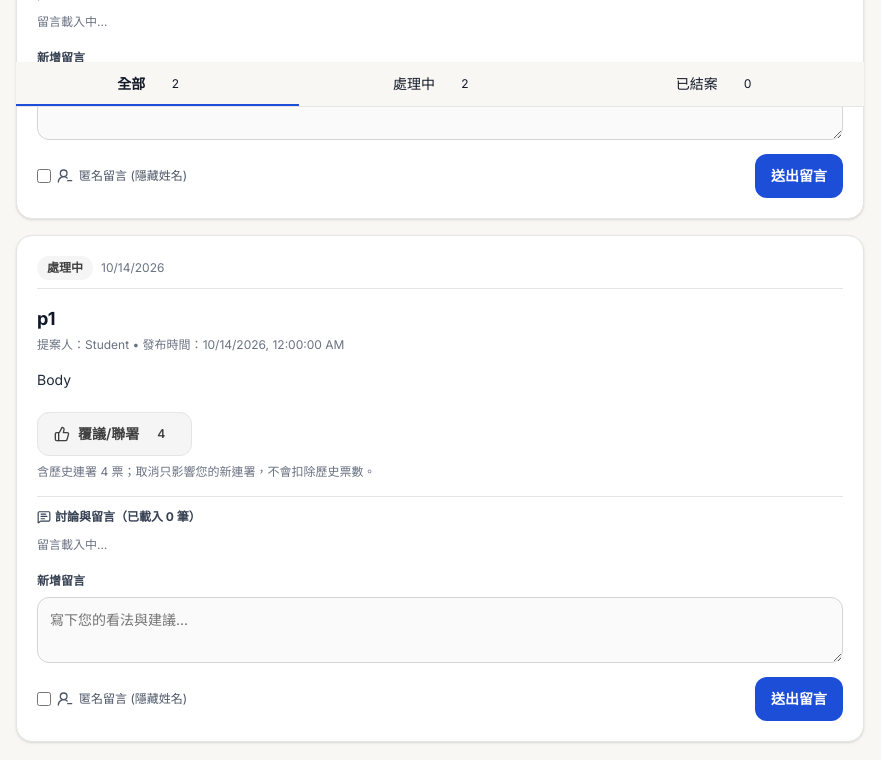
uses the receipt ballot without ever writing local vote authority (cancel=false)
This screenshot has width=881, height=760.
(page scrolled)
Expected: the heading "p1" is shown, 37,308 -> 56,329
Click the button "覆議/聯署 4" at (115, 434), box 37,412 -> 192,456
(page scrolled)
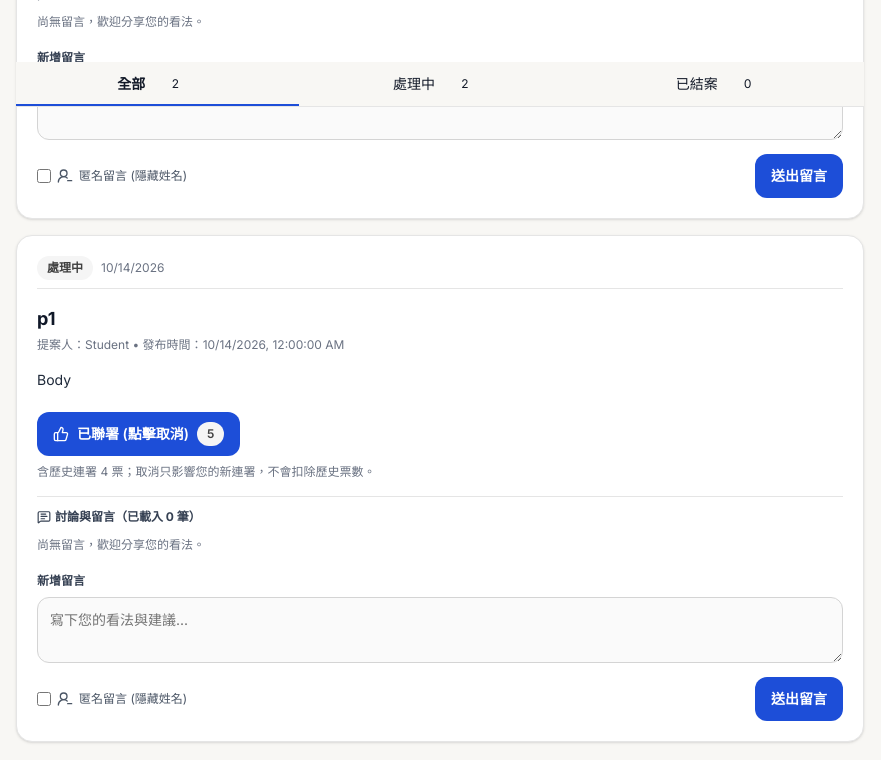
Result: the text "5" is shown at 197,422 -> 224,446
Result: the button "已聯署 (點擊取消) 5" is shown at 37,412 -> 240,456
